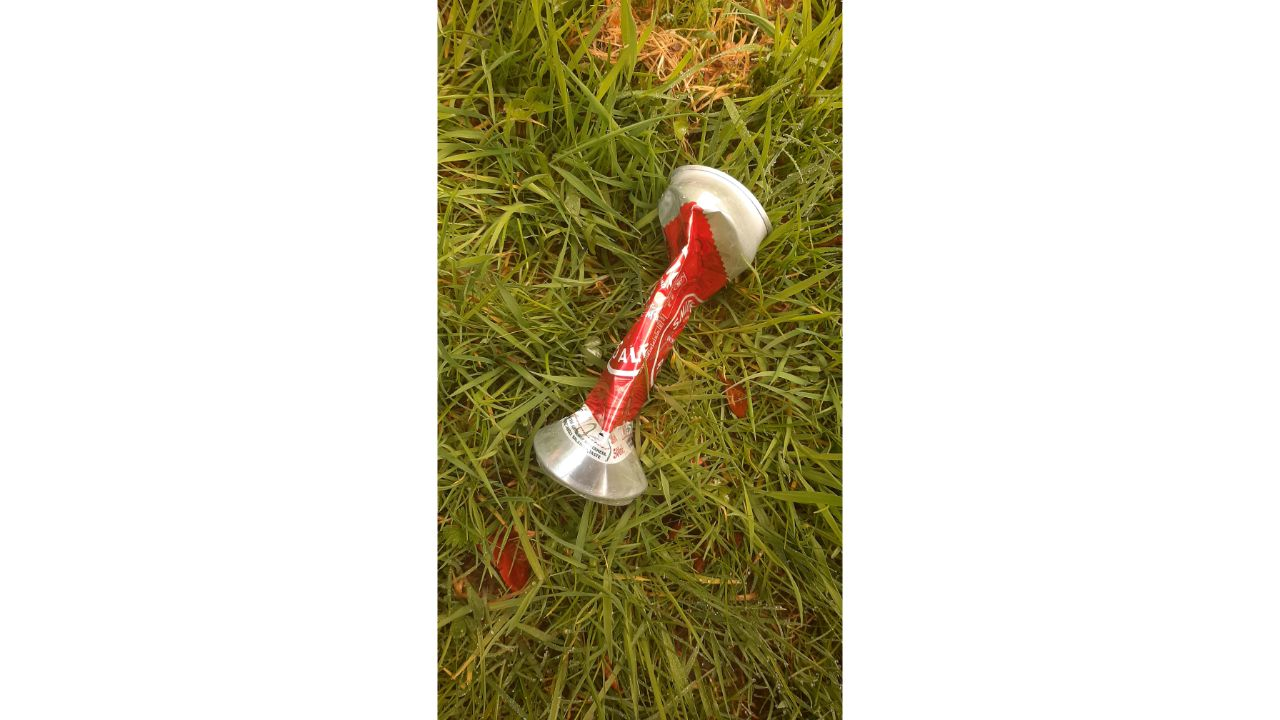Can: (525, 152, 781, 517)
